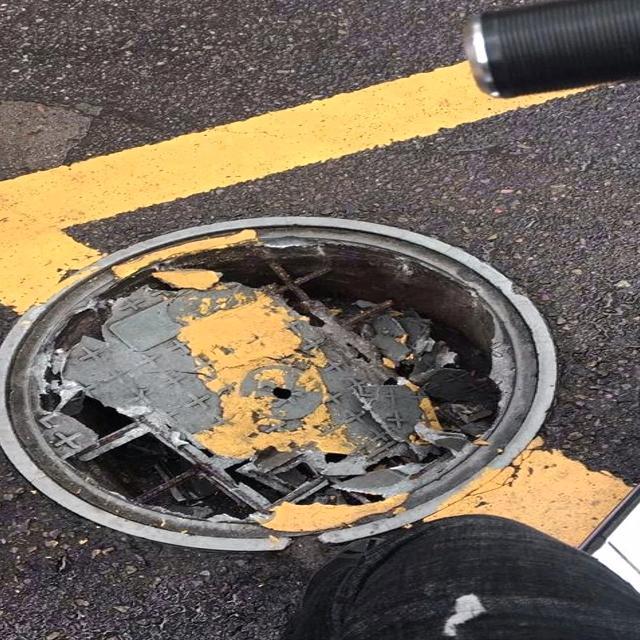broke: (1, 203, 573, 548)
